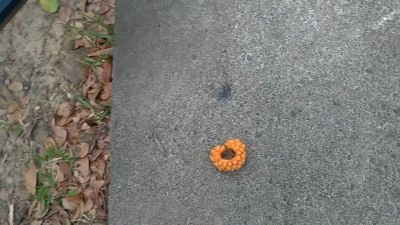eggs: (210, 137, 249, 174)
